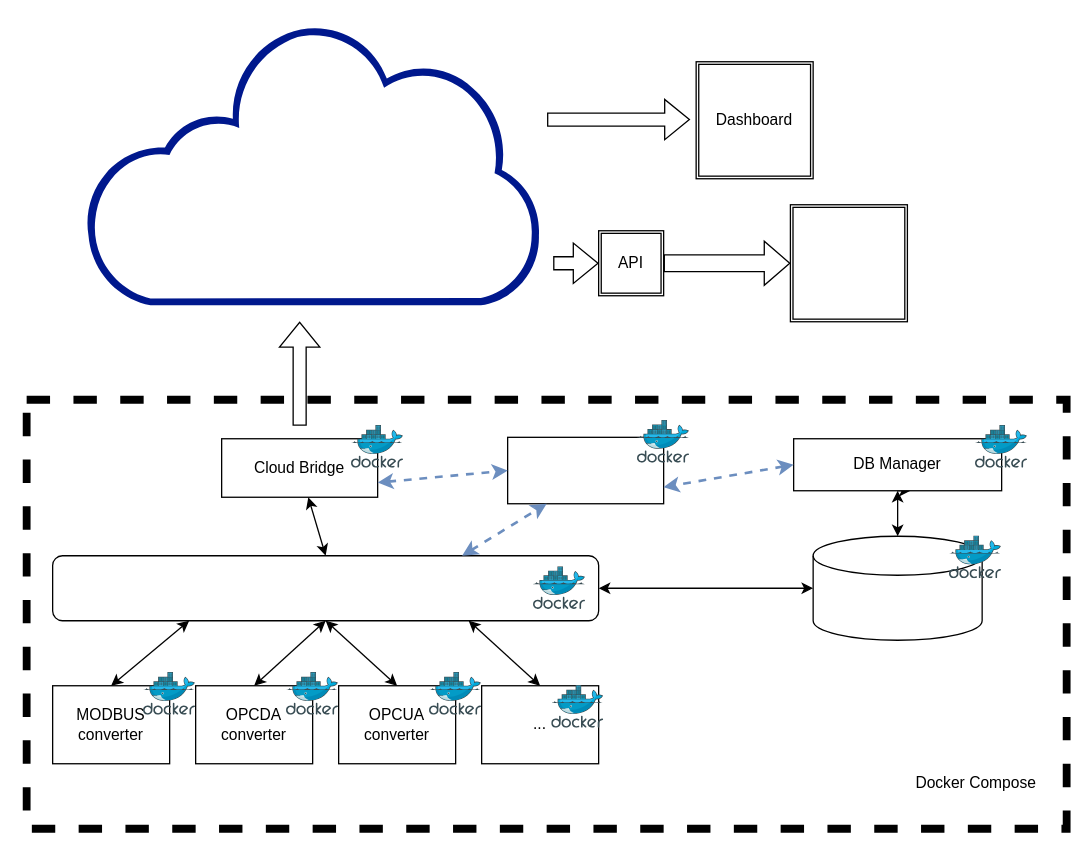
Image size: 1092x854. Some labels were removed from this diagram. The box of each missing label's shape, as (x1, y1, x2, y2) in pixels:
FrontEnd: (506, 436, 664, 504)
MongoDB: (812, 535, 982, 640)
MQTT Brocker: (51, 554, 599, 621)
Unity Engine: (789, 203, 907, 322)
